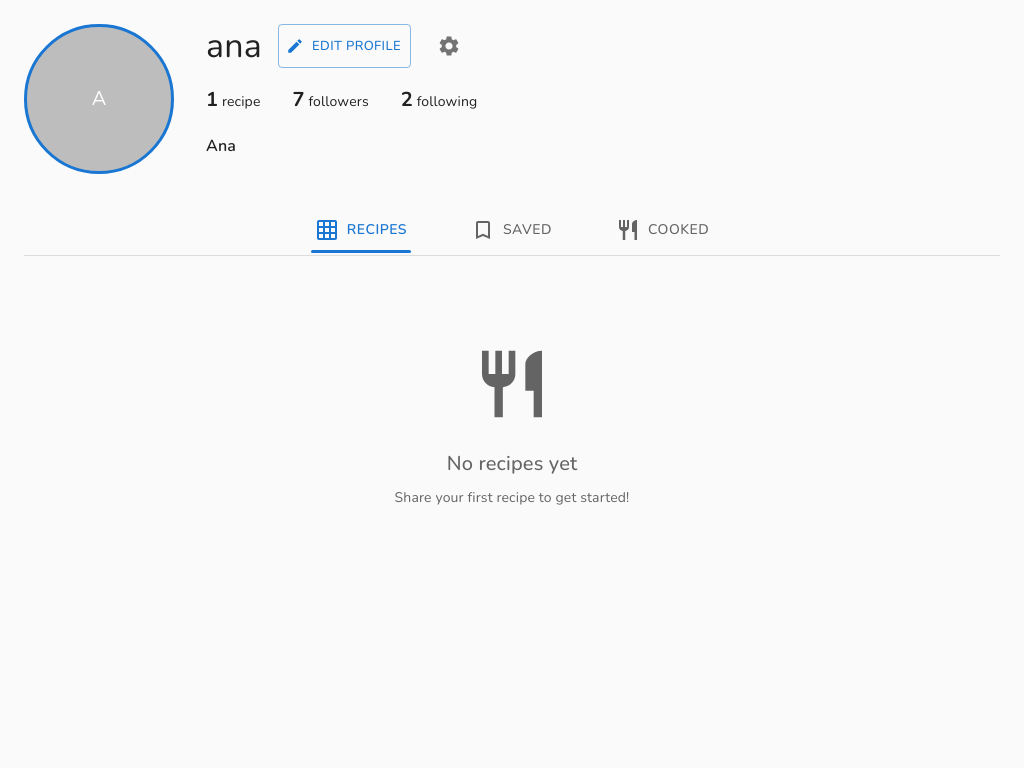
Test: the profile page › your Saved tab › lets go of a recipe the moment you unsave it, before the server answers
Click the button "Saved" at (528, 230), box [503,218,552,242]
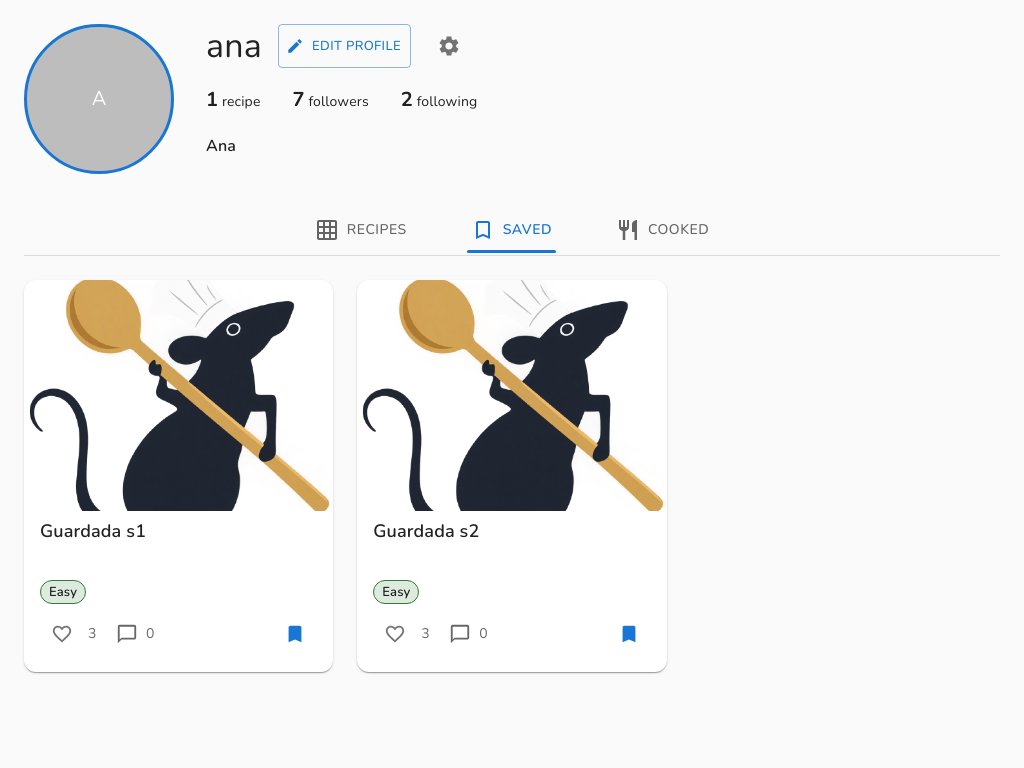
expect the link "Guardada s1" is shown: met, box [40,519,146,543]
Click the button named "Remove from saved" below "Guardada s1" at (295, 634), box [273,612,317,656]
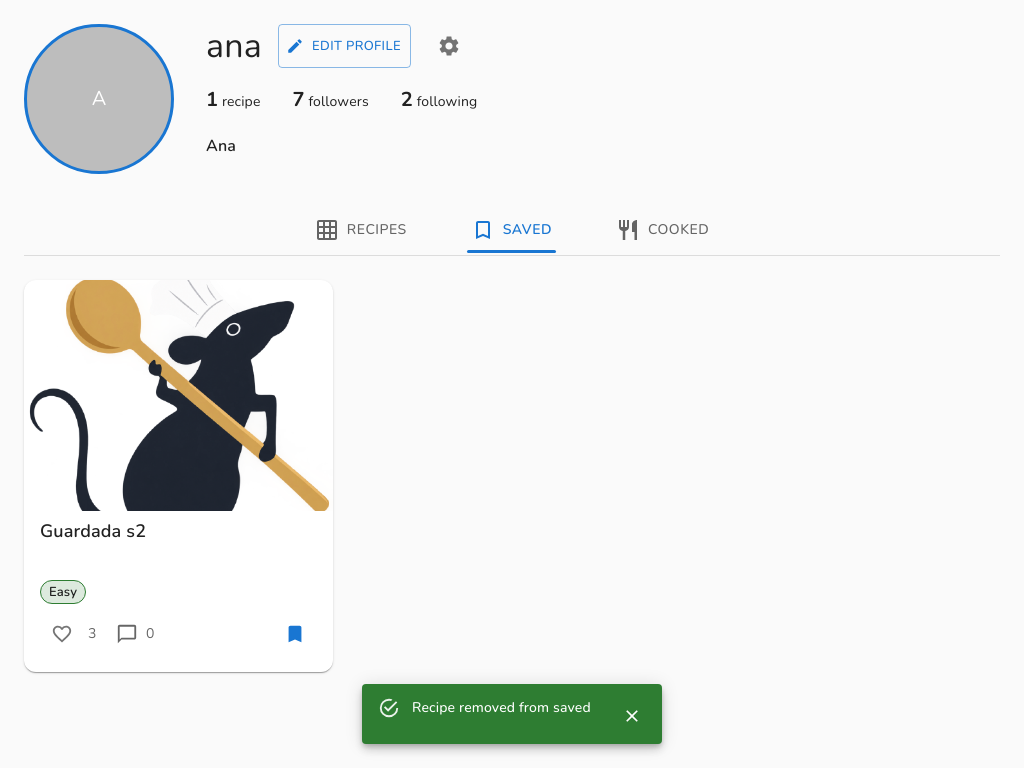
expect the link "Guardada s2" is shown: met, box [40,519,146,543]
expect the link "Guardada s1" is gone: met
